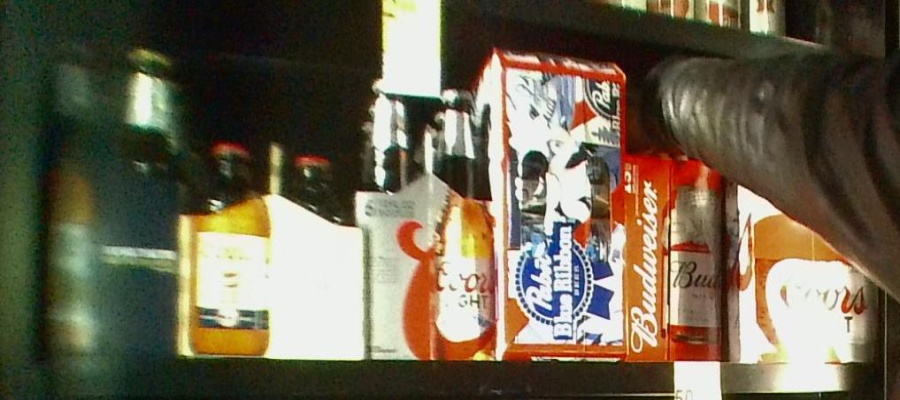bottle: (30, 33, 176, 360), (491, 51, 625, 364), (180, 141, 364, 358), (363, 73, 495, 362), (728, 203, 876, 364), (627, 150, 727, 362)
